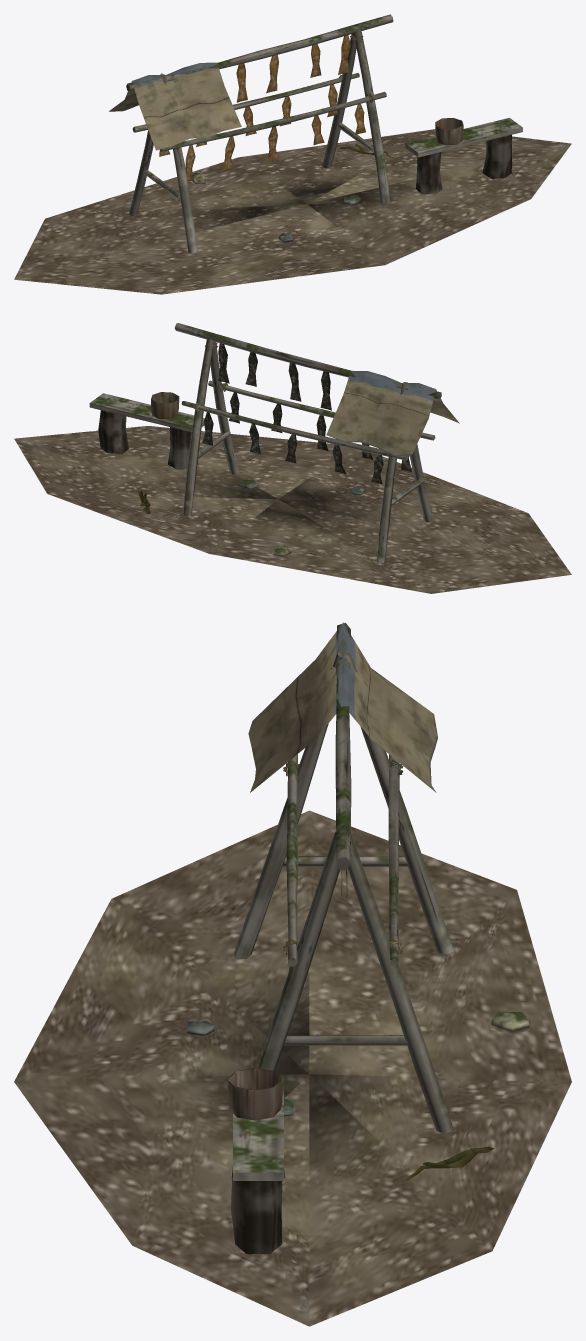
The model's file is kit_drying_rack_live.glb.
3 renders of one model, top to bottom at view 1: azimuth 30°, elevation 25°; view 2: azimuth 150°, elevation 25°; view 3: azimuth 270°, elevation 25°, orthographic. The views are drawn at different scales.
Parts seen in each view (by area): view 1: body, cover, plank_01; view 2: body, cover, plank_01; view 3: body, cover, plank_01.
Boxes of the visible parts, <box> form: body: <box>14,14,571,294</box>; cover: <box>109,62,241,150</box>; plank_01: <box>405,118,522,157</box>; body: <box>14,323,571,593</box>; cover: <box>326,370,459,455</box>; plank_01: <box>89,393,204,432</box>; body: <box>14,622,571,1326</box>; cover: <box>248,622,437,792</box>; plank_01: <box>233,1076,283,1180</box>.
Size of what is drawn, in the model's own units: 7.21 by 2.09 by 3.29.
2 materials, 2 textured.
